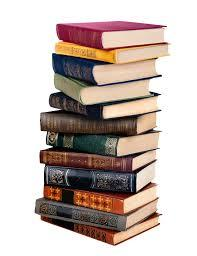Paper: (24, 6, 178, 256)
